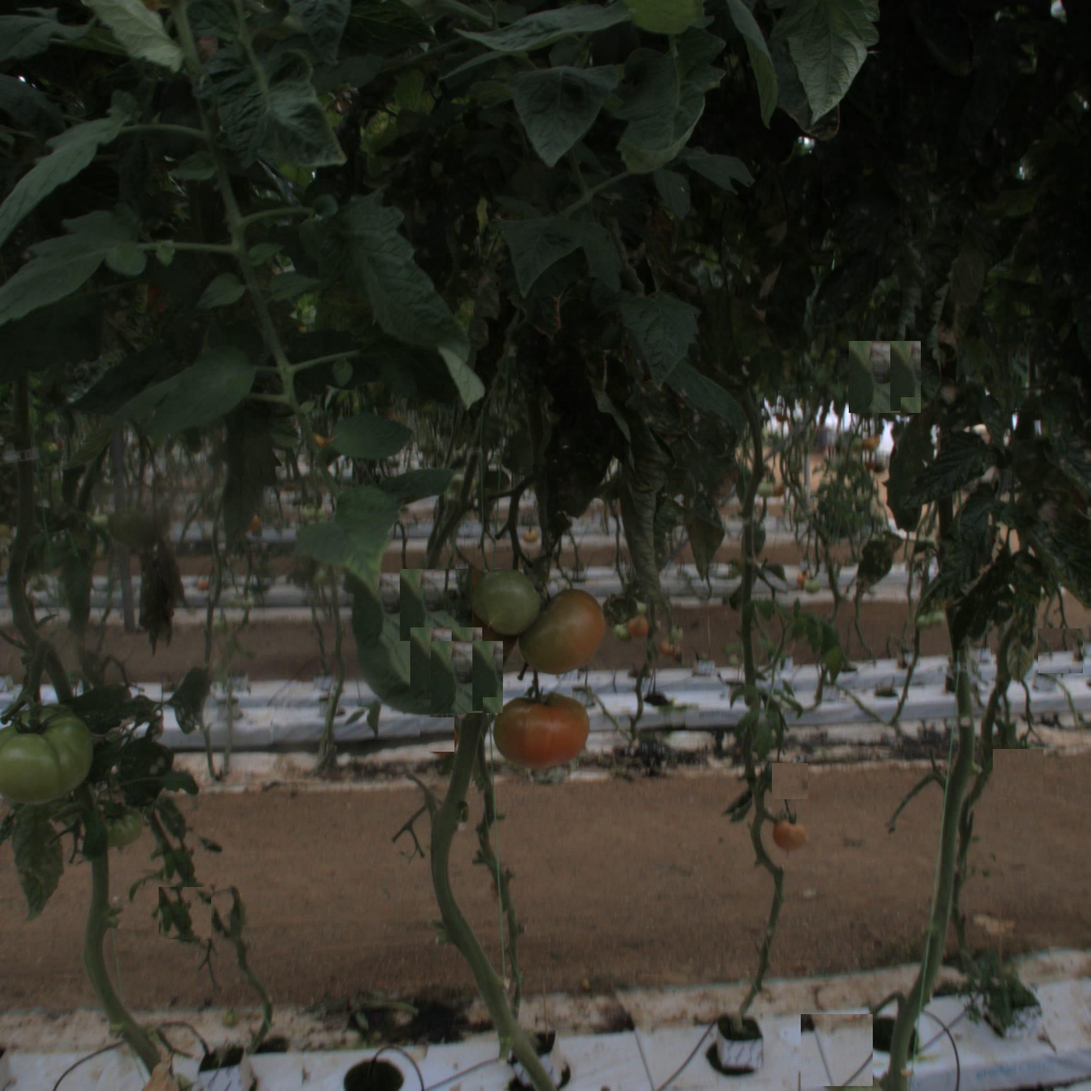semi-ripe: (497, 680, 589, 771), (522, 589, 605, 672), (774, 818, 806, 850)
unripe: (2, 708, 93, 799), (475, 568, 540, 634)
